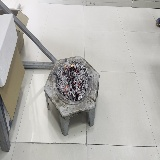fire: (64, 64, 74, 69)
